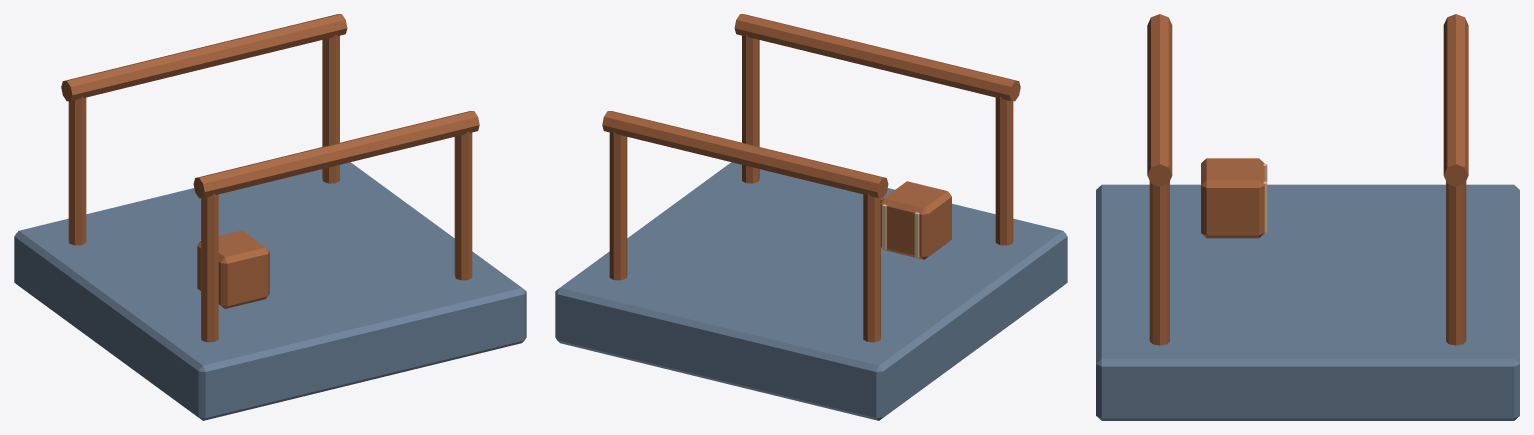
Rendered from Harbor_Stage2_v001.fbx.
The picture shows the model from 3 angles, left to right: view 1: azimuth 30°, elevation 25°; view 2: azimuth 150°, elevation 25°; view 3: azimuth 270°, elevation 25°; orthographic projection. The views are drawn at different scales.
Parts seen in each view (by area): view 1: StoneFoundation, Beam.001, Beam, Crate, Post.002, Post.001, Post.003, Post; view 2: StoneFoundation, Beam, Beam.001, Crate, Post.003, Post, Post.002, Post.001; view 3: StoneFoundation, Crate, Beam, Beam.001, Post, Post.001.
Boxes of the visible parts, x1,y1,x2,y2 form: StoneFoundation: [14, 162, 526, 420]; Beam.001: [193, 111, 479, 198]; Beam: [61, 14, 347, 101]; Crate: [197, 230, 269, 308]; Post.002: [68, 86, 86, 245]; Post.001: [454, 121, 472, 280]; Post.003: [201, 183, 218, 342]; Post: [322, 24, 339, 183]; StoneFoundation: [555, 162, 1067, 420]; Beam: [602, 111, 888, 198]; Beam.001: [734, 14, 1020, 101]; Crate: [881, 181, 951, 259]; Post.003: [995, 86, 1013, 245]; Post: [609, 121, 627, 280]; Post.002: [863, 183, 880, 342]; Post.001: [742, 24, 759, 183]; StoneFoundation: [1096, 184, 1519, 420]; Crate: [1201, 158, 1264, 238]; Beam: [1443, 14, 1468, 186]; Beam.001: [1147, 14, 1172, 186]; Post: [1446, 163, 1466, 345]; Post.001: [1149, 163, 1169, 345].
Bounding box in the file's own units: 186 × 119 × 186.
